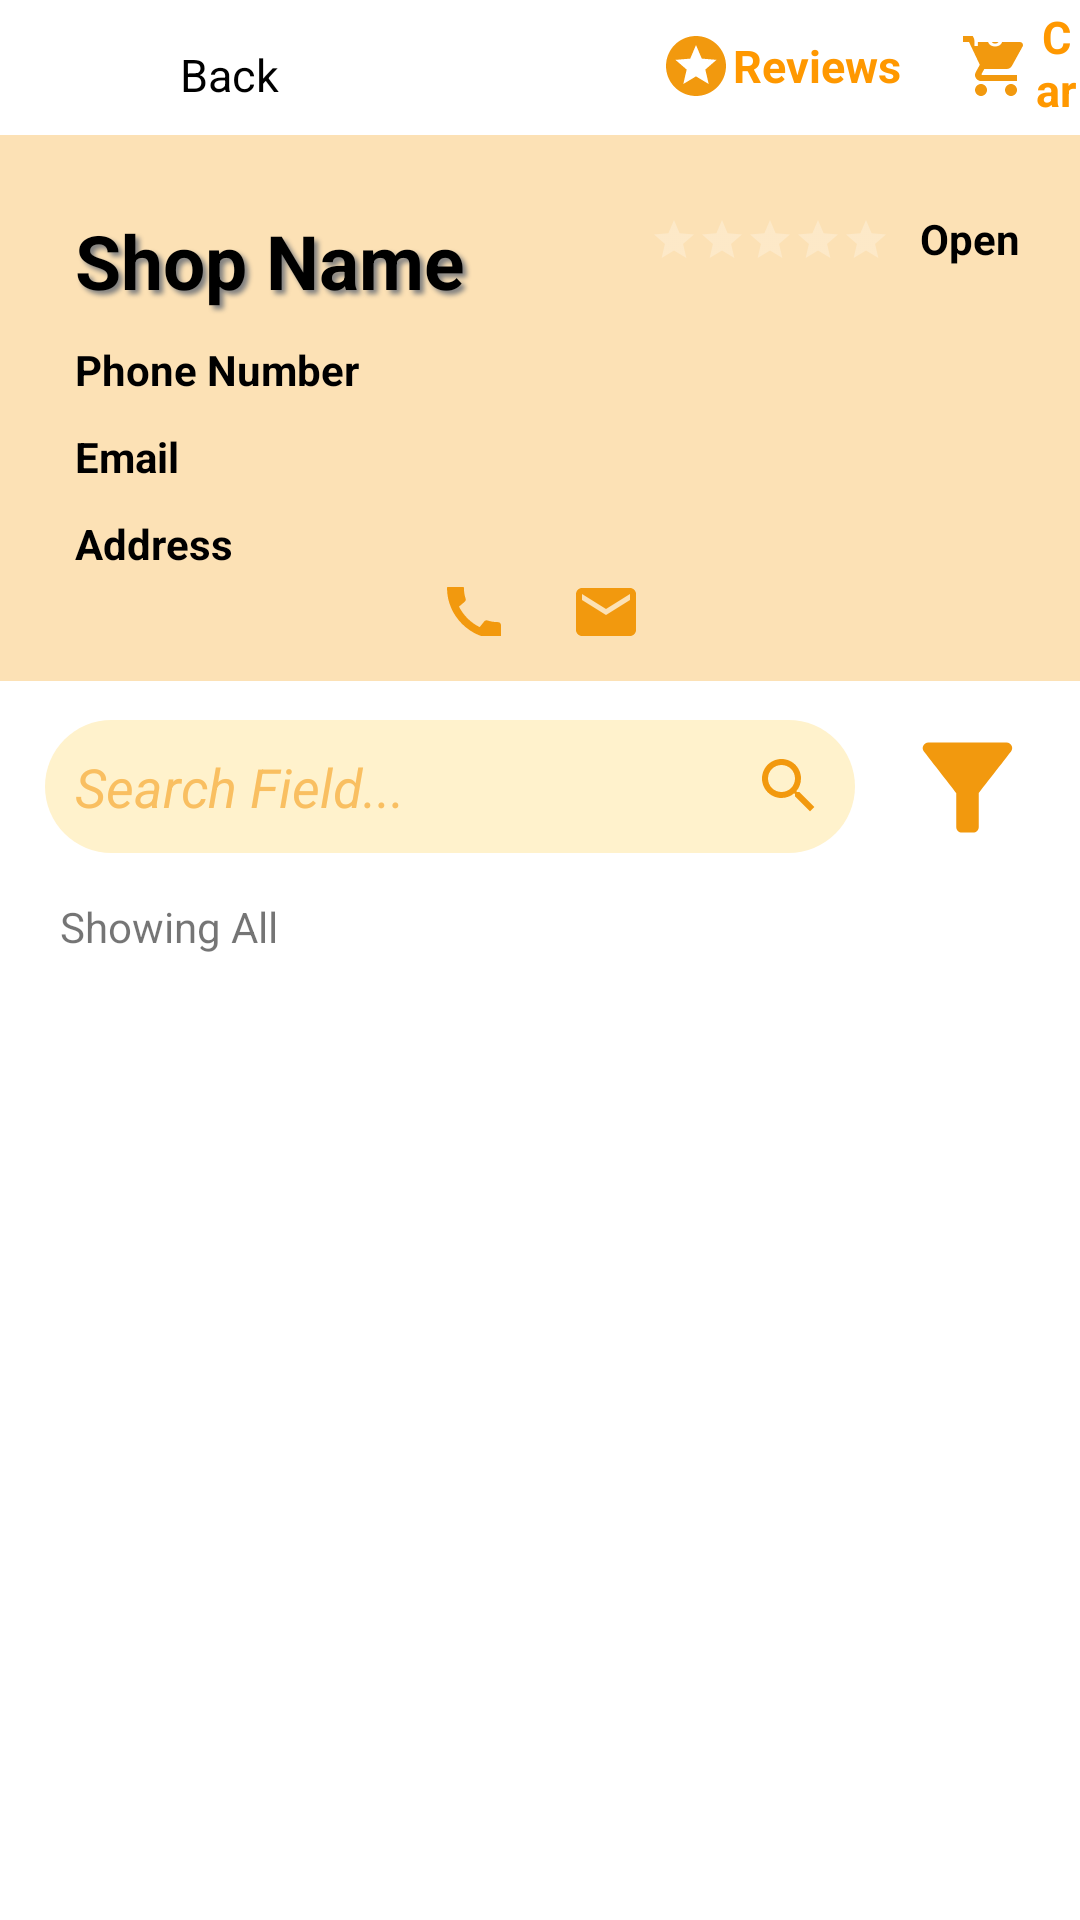

Icon click points for this 1080*1920 phone screenshot, format (x=x, y=y):
call: (x=474, y=611)
email: (x=606, y=612)
filter: (x=967, y=787)
